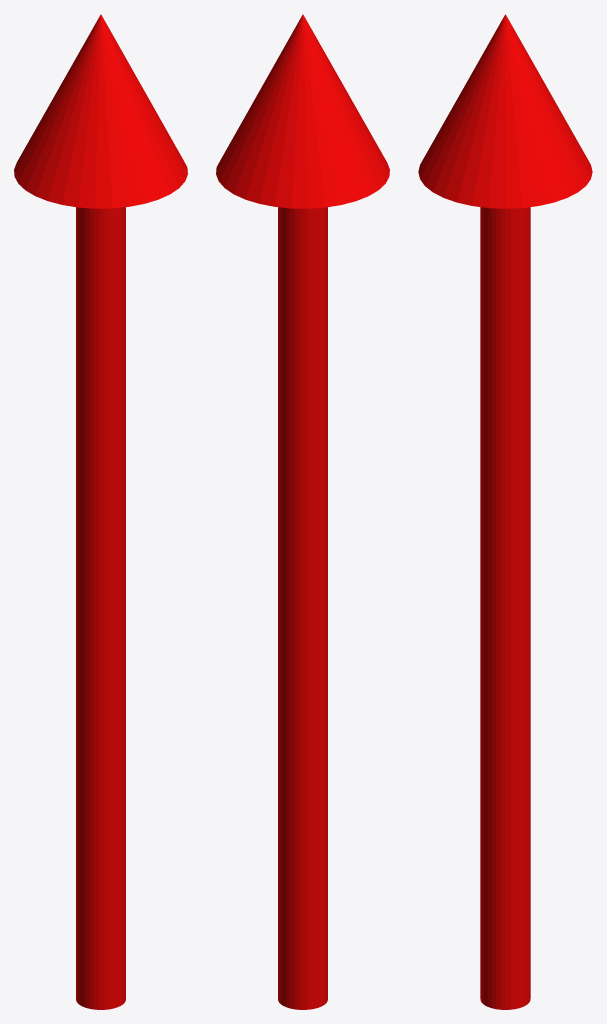
The model's file is Xarrow.fbx.
3 views of the same model, side by side, from view 1: azimuth 30°, elevation 25°; view 2: azimuth 150°, elevation 25°; view 3: azimuth 270°, elevation 25° (orthographic).
Visible parts, largest first — view 1: Zarrow; view 2: Zarrow; view 3: Zarrow.
Part boxes in pixels (x1,y1,x2,y2): Zarrow: [14, 14, 187, 1009]; Zarrow: [216, 14, 389, 1009]; Zarrow: [418, 14, 592, 1009].
Size of the model in its own units: 34.86 by 217 by 34.86.
